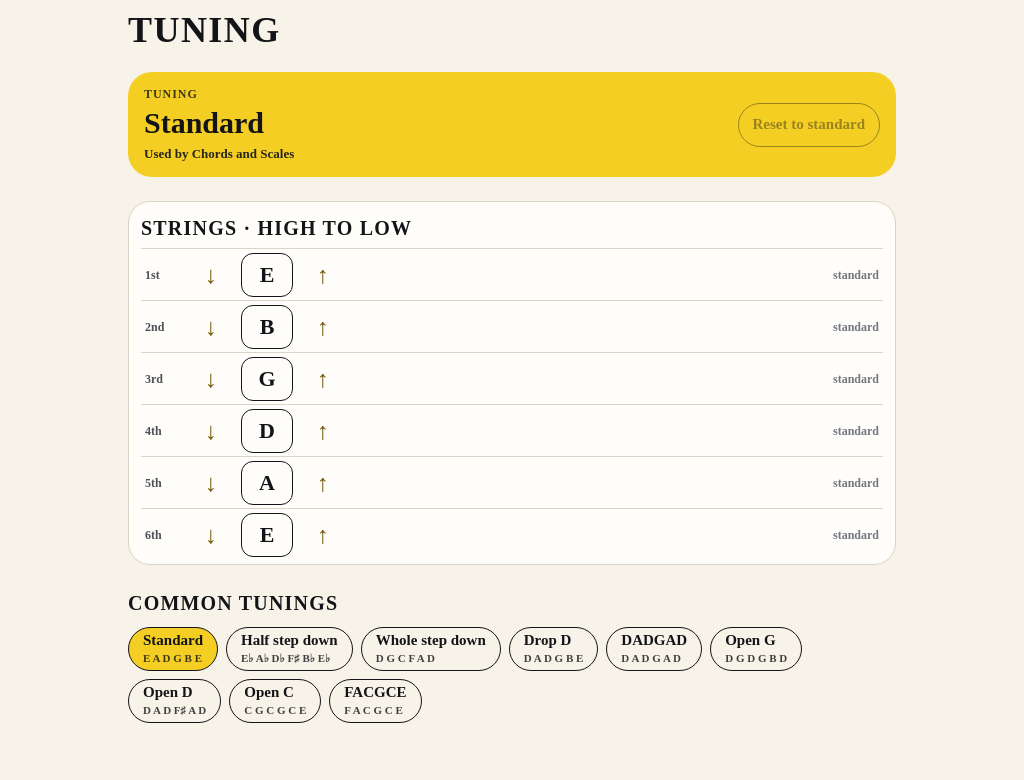
Scenario: TuningPage › tunes a string and shows the change
Click the button named "Tune 6th string down": point(211, 534) x1=189 y1=512 x2=233 y2=556
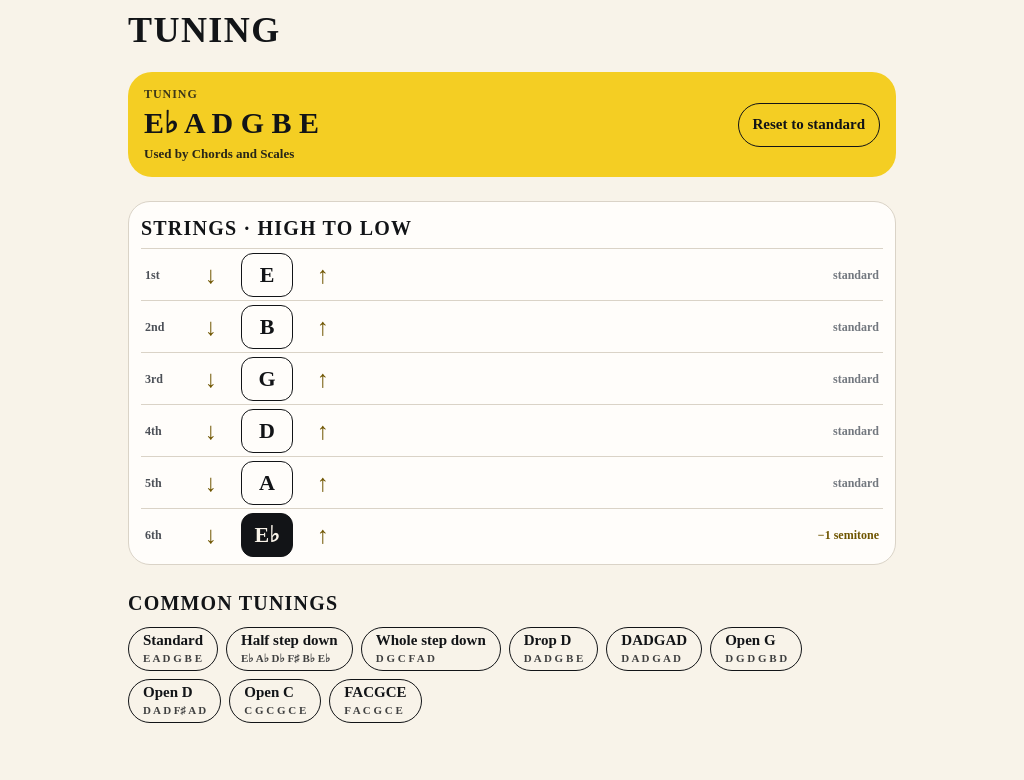
Click the button named "Tune 6th string down": point(211, 534) x1=189 y1=512 x2=233 y2=556
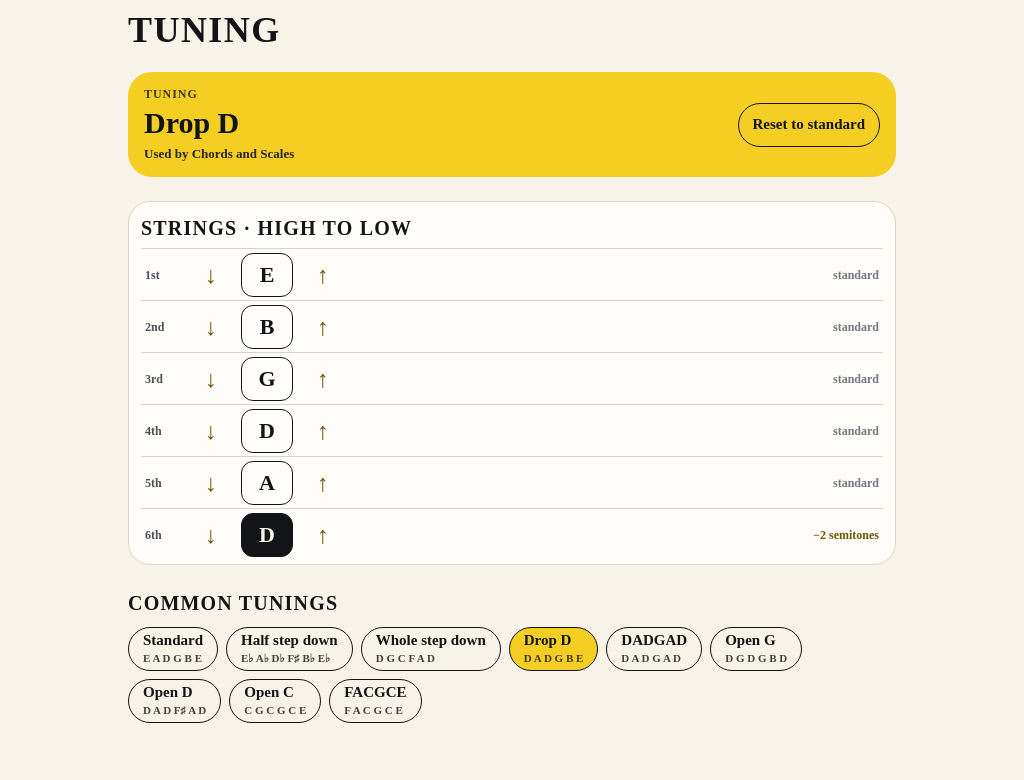
Expected: the heading "Drop D" is shown, x1=144 y1=106 x2=239 y2=139
Expected: the text "−2 semitones" is shown, x1=813 y1=526 x2=879 y2=542
